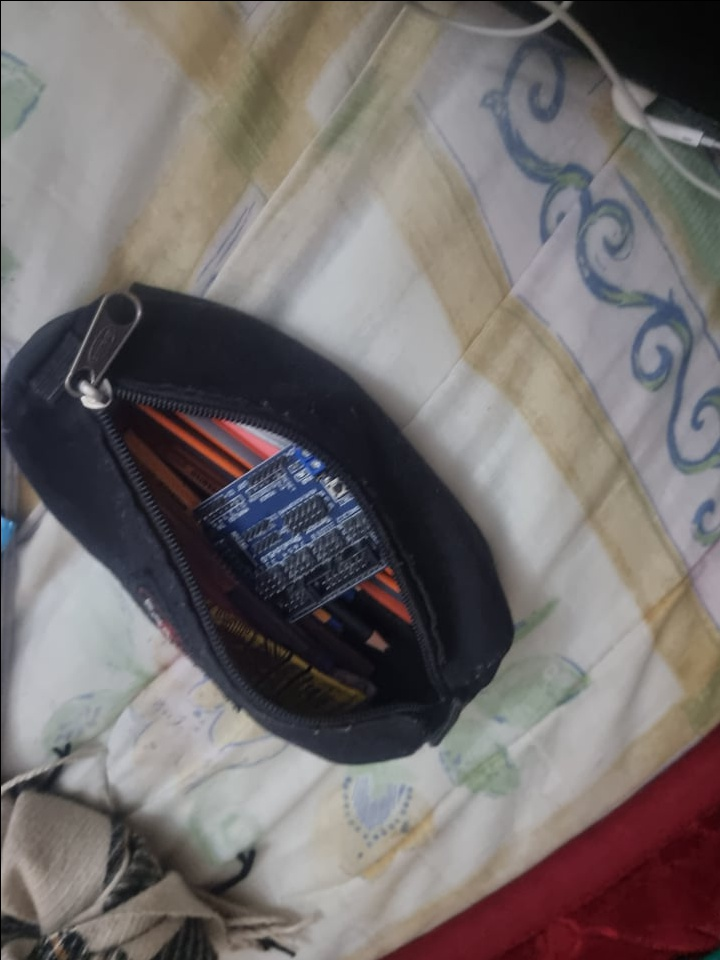5V EXPANSION: (192, 444, 390, 622)
